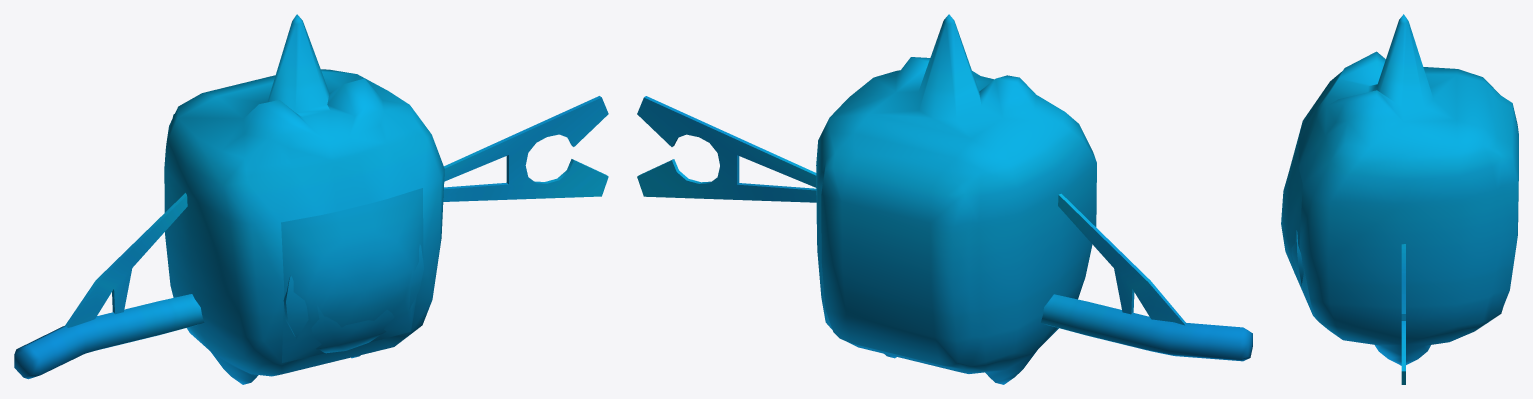
File: Rotom001.obj
3 renders of one model, left to right at view 1: azimuth 30°, elevation 25°; view 2: azimuth 150°, elevation 25°; view 3: azimuth 270°, elevation 25°, orthographic. The views are drawn at different scales.
Parts seen in each view (by area): view 1: polygon0; view 2: polygon0; view 3: polygon0.
Part boxes in pixels (x1,y1,x2,y2): polygon0: (14,14,608,384); polygon0: (637,14,1252,384); polygon0: (1281,14,1518,384).
Size of the model in its own units: 5.36 by 3.05 by 2.
Materials: 3 (3 with a texture image).
